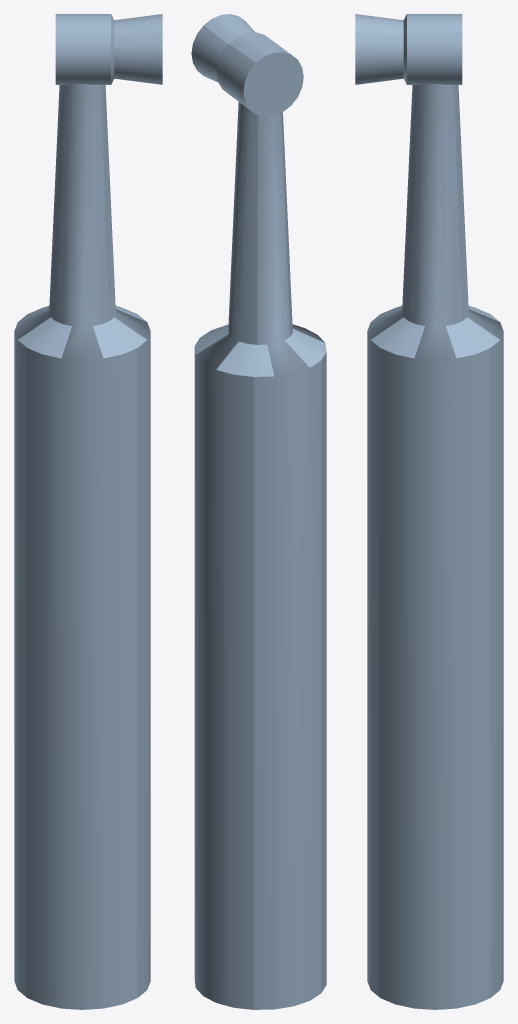
Rendered from Ing_BrushTeeth.fbx.
3 views of the same model, side by side, from view 1: azimuth 90°, elevation 25°; view 2: azimuth 210°, elevation 25°; view 3: azimuth 270°, elevation 25° (orthographic). The views are drawn at different scales.
Parts seen in each view (by area): view 1: Ing_BrushTeeth_01_low, Ing_BrushTeeth_02_low; view 2: Ing_BrushTeeth_01_low, Ing_BrushTeeth_02_low; view 3: Ing_BrushTeeth_01_low, Ing_BrushTeeth_02_low.
Part boxes in pixels (x1=…): Ing_BrushTeeth_01_low: x1=14, y1=84, x2=150, y2=1009; Ing_BrushTeeth_02_low: x1=55, y1=14, x2=162, y2=84; Ing_BrushTeeth_01_low: x1=194, y1=102, x2=326, y2=1009; Ing_BrushTeeth_02_low: x1=191, y1=14, x2=303, y2=116; Ing_BrushTeeth_01_low: x1=367, y1=84, x2=503, y2=1009; Ing_BrushTeeth_02_low: x1=355, y1=14, x2=462, y2=84.
Size of the model in its own units: 2.81 by 21.92 by 3.05.
